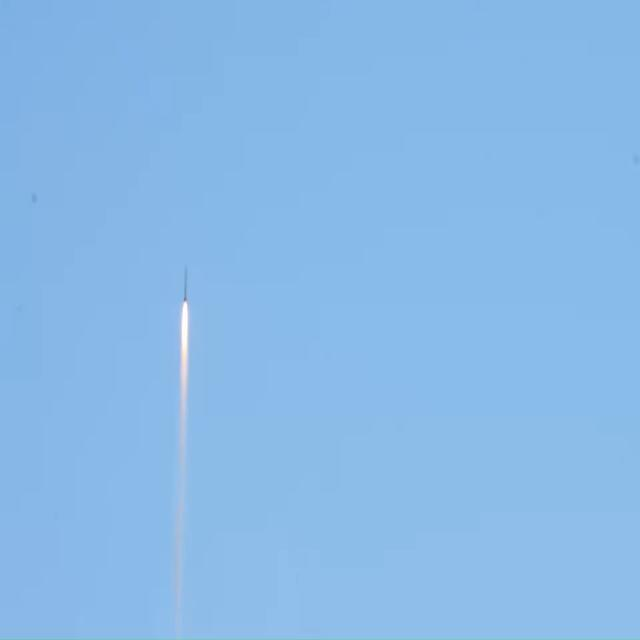Rocket: (182, 263, 188, 303)
